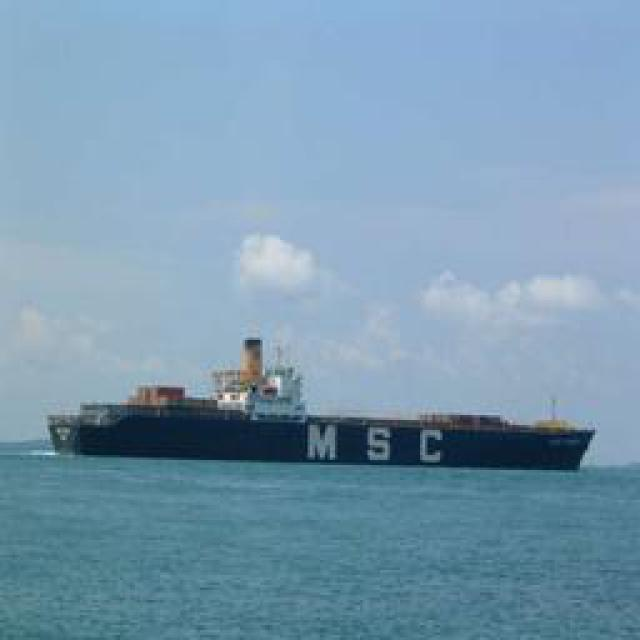Ship: (43, 374, 598, 469)
